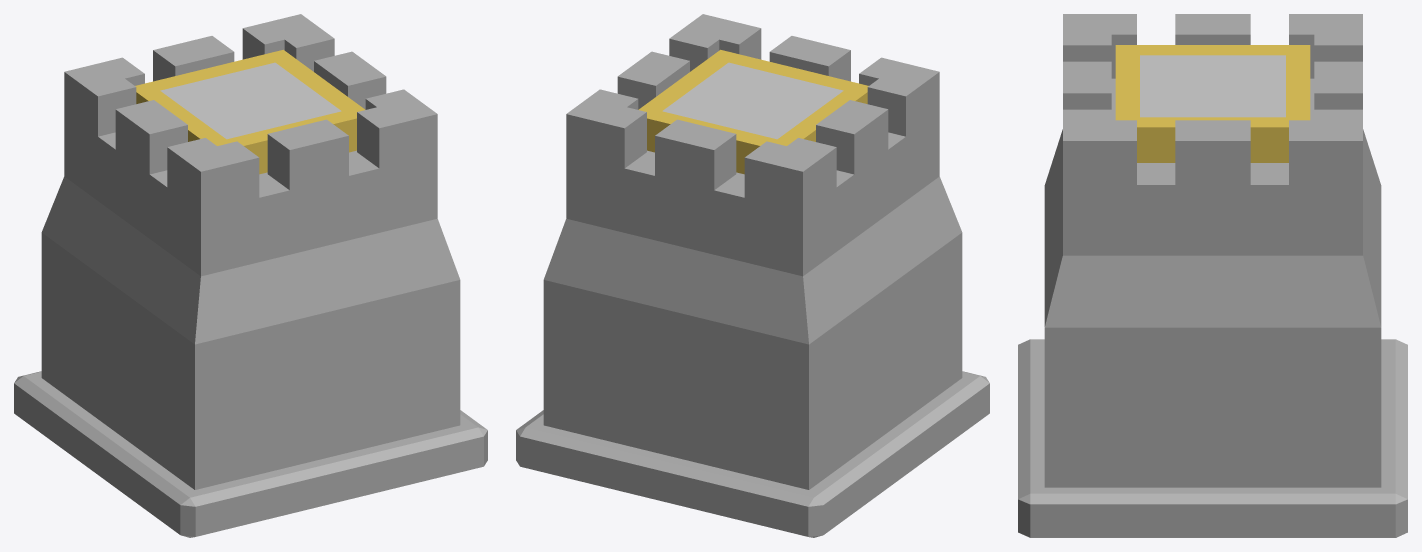
File: roket.fbx
3 views of the same model, side by side, from view 1: azimuth 30°, elevation 25°; view 2: azimuth 150°, elevation 25°; view 3: azimuth 270°, elevation 25° (orthographic). The views are drawn at different scales.
Parts seen in each view (by area): view 1: Cube.028, Cube.027, Cube, Cube.029, Cube.030, Cube.096; view 2: Cube.028, Cube.027, Cube, Cube.029, Cube.030, Cube.096; view 3: Cube.028, Cube.027, Cube, Cube.029, Cube.030, Cube.096.
Boxes of the visible parts, x1,y1,x2,y2 form: Cube.028: (41,112,460,489); Cube.027: (64,14,437,211); Cube: (14,371,487,537); Cube.029: (135,49,365,174); Cube.030: (160,76,283,139); Cube.096: (218,62,341,125); Cube.028: (543,112,962,489); Cube.027: (566,14,939,211); Cube: (516,371,989,537); Cube.029: (638,49,868,174); Cube.030: (720,76,843,139); Cube.096: (662,62,785,125); Cube.028: (1044,78,1381,487); Cube.027: (1063,14,1362,184); Cube: (1018,339,1407,537); Cube.029: (1115,45,1310,162); Cube.030: (1140,55,1285,86); Cube.096: (1140,86,1285,117).
Size of the model in its own units: 400 by 434 by 400.
